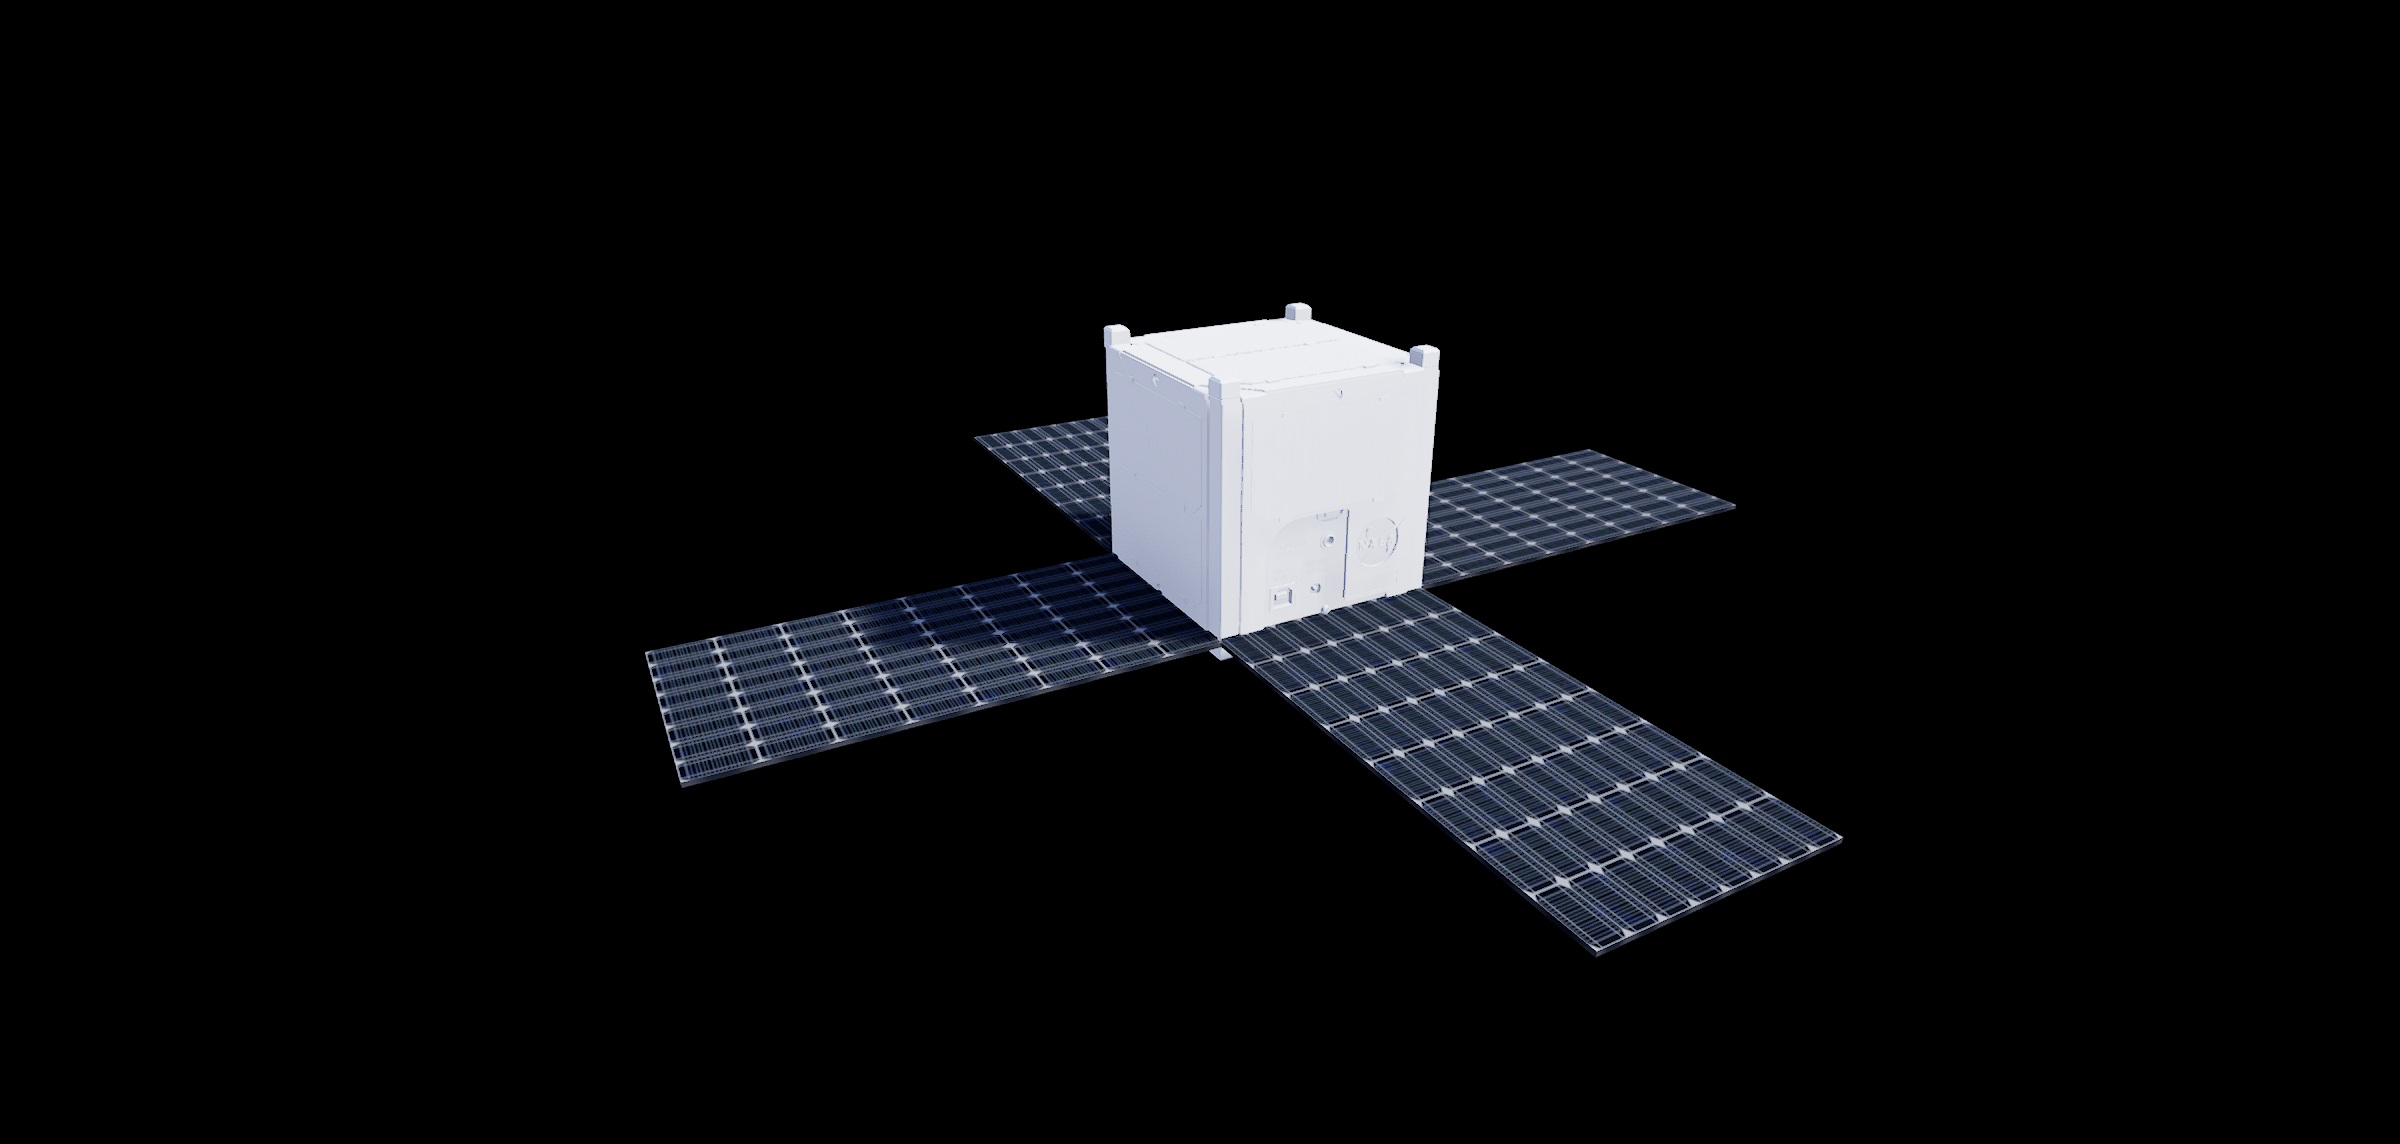satellite: (623, 207, 1860, 979)
